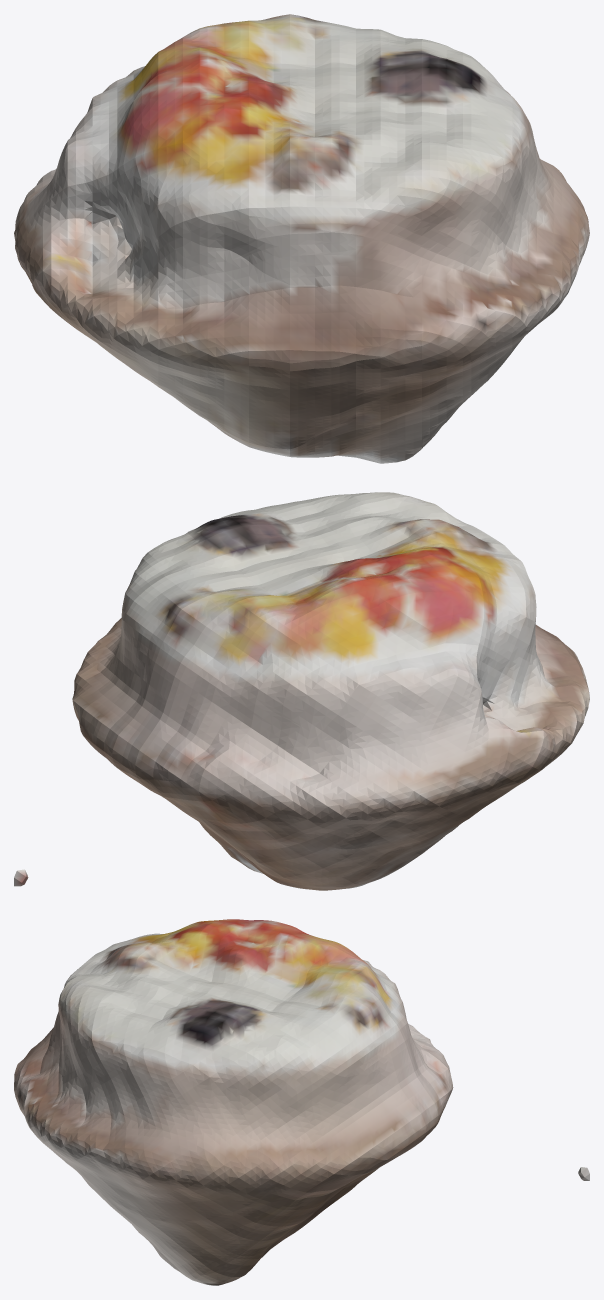
3 renders of one model, top to bottom at view 1: azimuth 30°, elevation 25°; view 2: azimuth 150°, elevation 25°; view 3: azimuth 270°, elevation 25°, orthographic. The views are drawn at different scales.
Visible parts, largest first — view 1: mesh.ply; view 2: mesh.ply; view 3: mesh.ply.
Boxes of the visible parts, <box> form: mesh.ply: <box>14,14,589,463</box>; mesh.ply: <box>14,492,589,890</box>; mesh.ply: <box>14,919,589,1285</box>.
Size of the model in its own units: 0.7859 by 0.5925 by 1.04.
